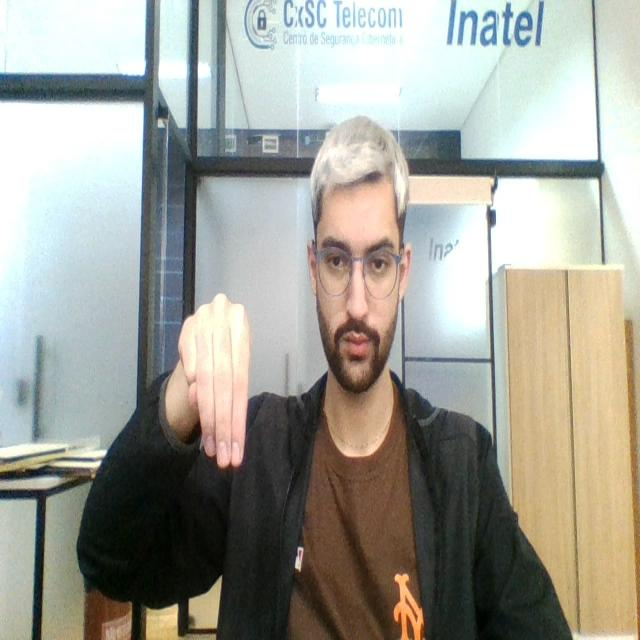M: (174, 276, 253, 480)
